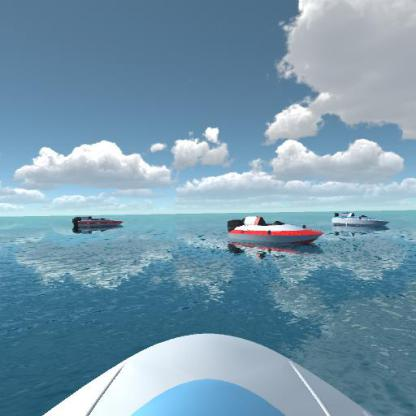usv1: (330, 209, 392, 233)
usv3: (222, 211, 326, 254), (68, 209, 128, 235)
